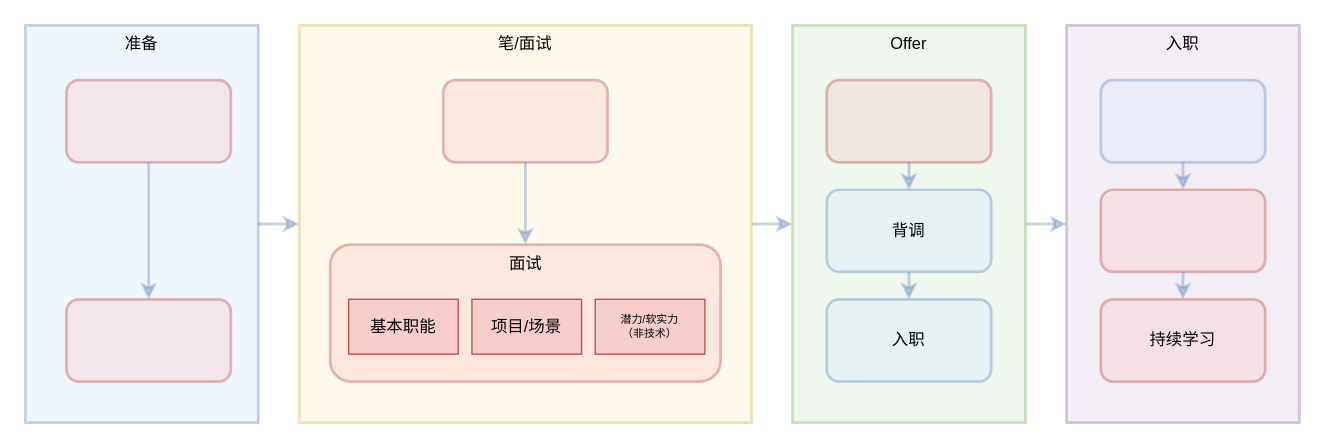
Some shapes in this 1323 by 447 pixel diagram are drawn without their labels. Here are the shapes that lost their labels. From the top down, the centre of each, then its label:
the point at 148,120: 简历制作
the point at 524,120: 笔试
the point at 908,120: 谈薪
the point at 1182,120: 发Offer
the point at 1182,230: 试用/转正
the point at 148,339: 简历投题
